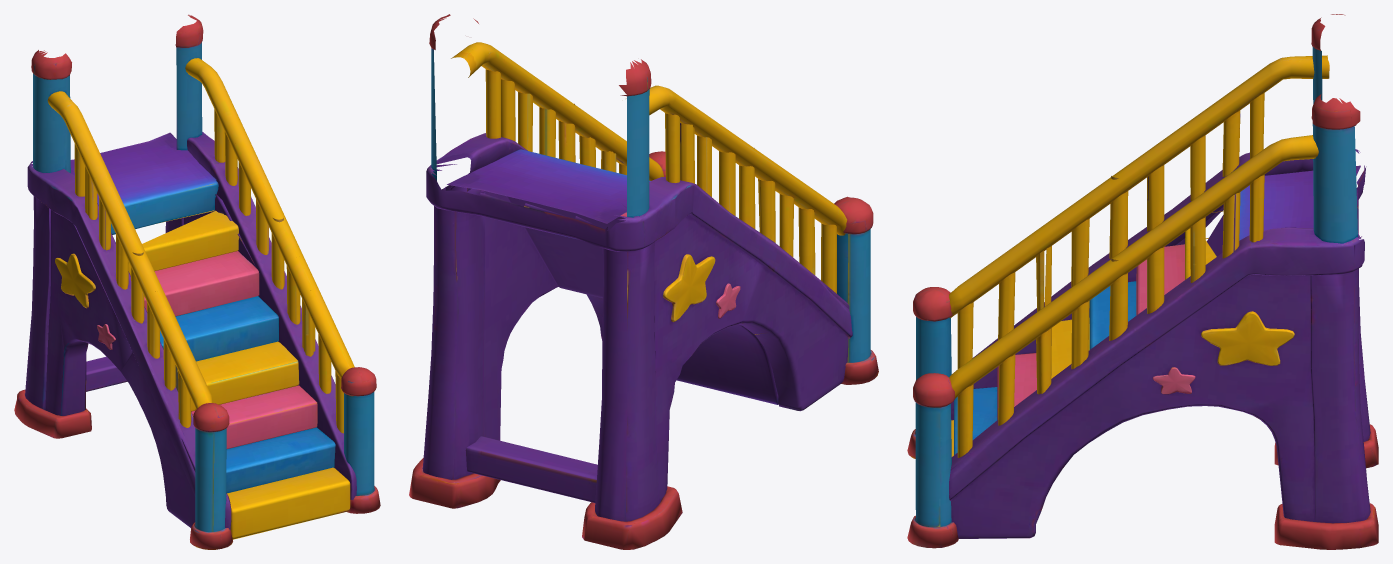
The model's file is play_stairs.glb.
3 renders of one model, left to right at view 1: azimuth 30°, elevation 25°; view 2: azimuth 150°, elevation 25°; view 3: azimuth 270°, elevation 25°, orthographic. The views are drawn at different scales.
Size of what is drawn, in the model's own units: 0.5419 by 0.9985 by 0.9724.
Materials: 1 (1 with a texture image).
